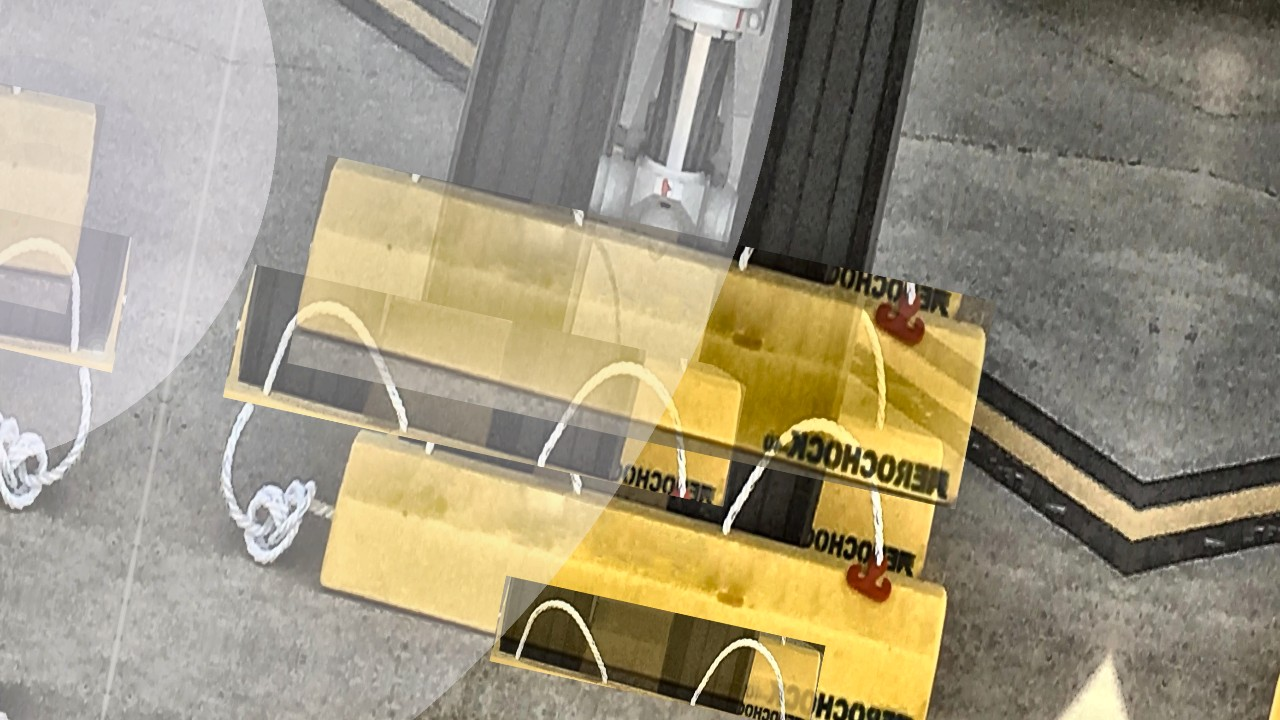chock: (287, 155, 996, 510), (312, 430, 956, 720), (382, 311, 952, 575), (223, 263, 749, 507), (490, 576, 826, 720)
wheel: (669, 0, 945, 550), (395, 0, 678, 479)
